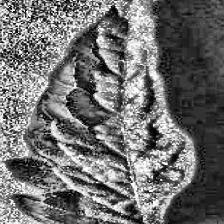spider mites: (6, 0, 196, 224)
